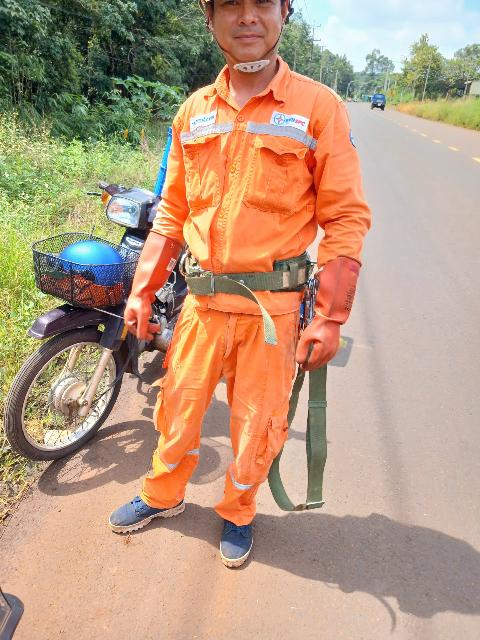gloves: (284, 235, 363, 374), (109, 209, 185, 350)
harness: (169, 232, 319, 308)
shoes: (105, 475, 182, 532), (211, 502, 266, 578)
